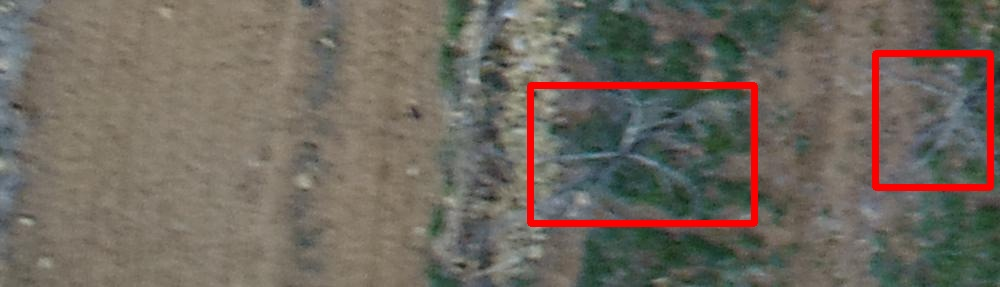apple: (530, 85, 754, 223), (875, 53, 990, 187)
